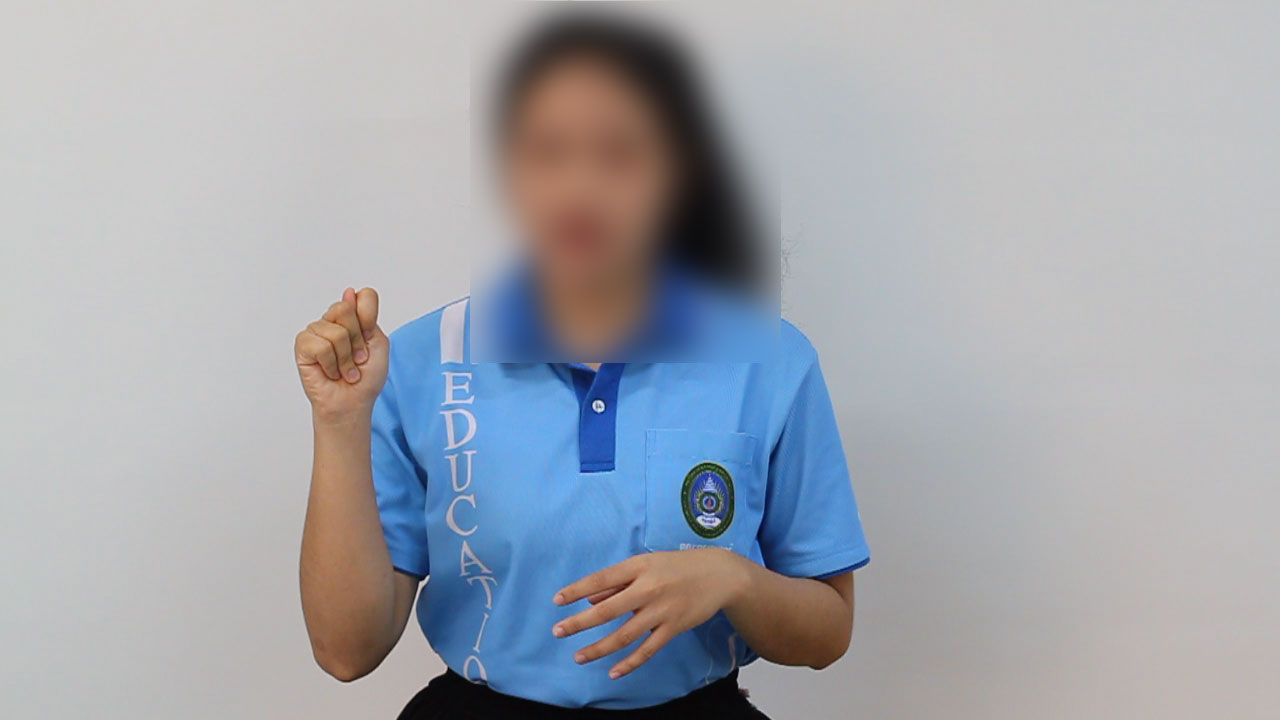tor: (266, 273, 412, 431)
